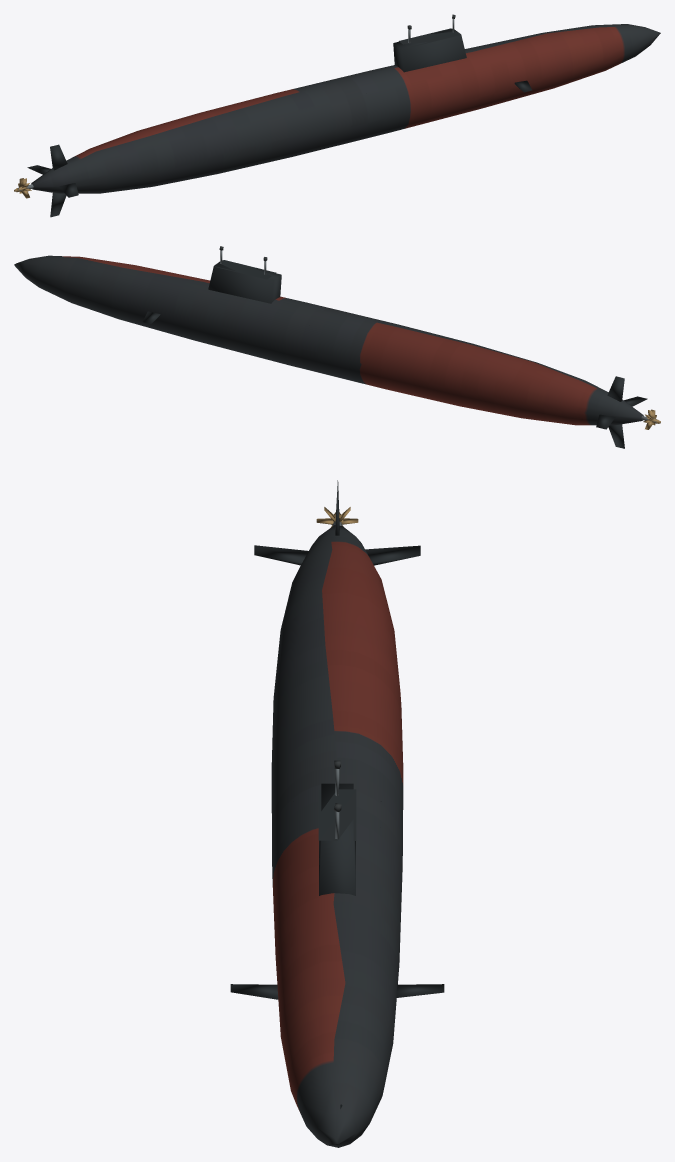
The model's file is US_SSN_LosAngeles_LOD3.fbx.
The picture shows the model from 3 angles, top to bottom: view 1: azimuth 30°, elevation 25°; view 2: azimuth 150°, elevation 25°; view 3: azimuth 270°, elevation 25°; orthographic projection. The views are drawn at different scales.
Visible parts, largest first — view 1: US_SSN_LosAngeles_LOD3; view 2: US_SSN_LosAngeles_LOD3; view 3: US_SSN_LosAngeles_LOD3.
Part boxes in pixels (<box>): US_SSN_LosAngeles_LOD3: <box>14,14,660,217</box>; US_SSN_LosAngeles_LOD3: <box>14,246,660,448</box>; US_SSN_LosAngeles_LOD3: <box>230,480,444,1147</box>.
Size of the model in its own units: 113 by 16.18 by 17.36.
Materials: 6 (1 with a texture image).
